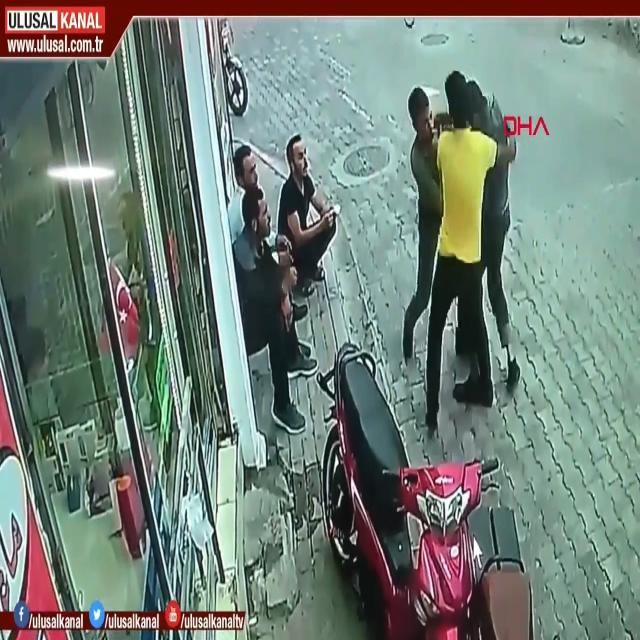fight: (384, 56, 560, 374)
